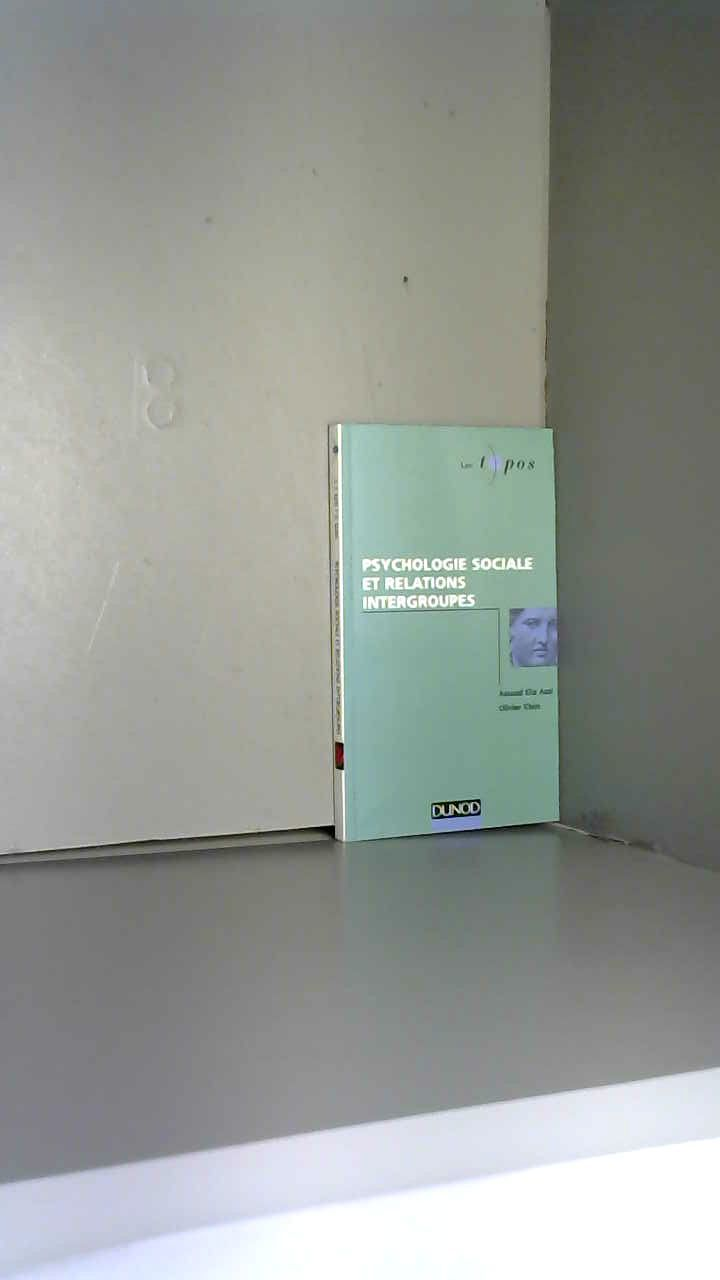book: (315, 405, 576, 850)
